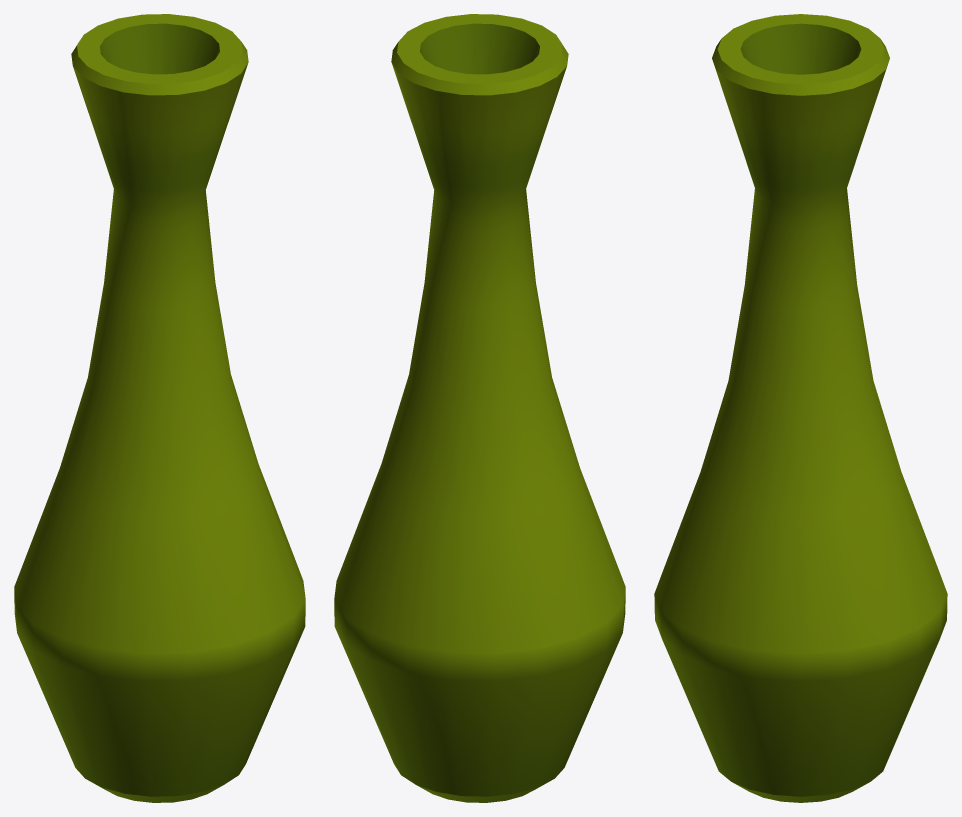
The model's file is Vase_70s_v1.fbx.
The picture shows the model from 3 angles, left to right: view 1: azimuth 30°, elevation 25°; view 2: azimuth 150°, elevation 25°; view 3: azimuth 270°, elevation 25°; orthographic projection.
Parts seen in each view (by area): view 1: P_Vase_70s_1; view 2: P_Vase_70s_1; view 3: P_Vase_70s_1.
Boxes of the visible parts, left/top/right/bottom form: P_Vase_70s_1: left=14, top=14, right=305, bottom=802; P_Vase_70s_1: left=334, top=14, right=625, bottom=802; P_Vase_70s_1: left=654, top=14, right=947, bottom=802.
Bounding box in the file's own units: 1.93 × 5.29 × 1.93.
